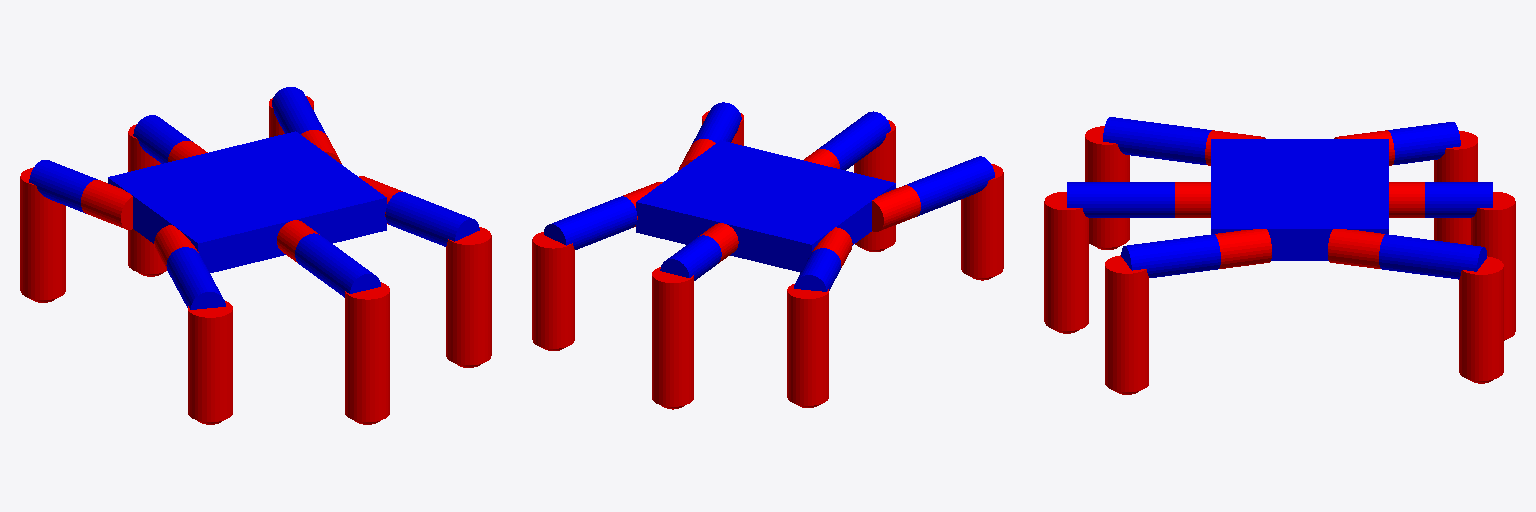
--- Render facts (derived) ---
Views: 3 orthographic renders of the robot side by side, from view 1: azimuth 30°, elevation 25°; view 2: azimuth 150°, elevation 25°; view 3: azimuth 270°, elevation 25°.
Robot: pexod — 19 links, 18 joints (18 revolute); root link base_link; default pose: every joint at zero.
Links seen in each view (by area): view 1: base_link, leg_3_3, leg_4_3, leg_5_3, leg_0_3, leg_3_2, leg_4_2, leg_5_2, leg_0_2, leg_1_3, leg_0_1, leg_2_2 (+3 smaller); view 2: base_link, leg_1_3, leg_0_3, leg_2_3, leg_5_3, leg_2_2, leg_5_2, leg_4_2, leg_4_3, leg_1_2, leg_5_1, leg_0_2 (+3 smaller); view 3: base_link, leg_4_3, leg_3_3, leg_2_3, leg_4_2, leg_5_2, leg_2_2, leg_1_3, leg_3_2, leg_5_3, leg_0_3, leg_1_2 (+5 smaller).
Link boxes in pixels (bbox=[...]): base_link: bbox=[108, 131, 386, 272]; leg_3_3: bbox=[446, 227, 491, 367]; leg_4_3: bbox=[345, 282, 389, 424]; leg_5_3: bbox=[188, 301, 232, 424]; leg_0_3: bbox=[20, 167, 65, 302]; leg_3_2: bbox=[385, 192, 479, 246]; leg_4_2: bbox=[295, 233, 380, 297]; leg_5_2: bbox=[166, 247, 225, 309]; leg_0_2: bbox=[29, 160, 97, 213]; leg_1_3: bbox=[128, 124, 166, 276]; leg_0_1: bbox=[81, 180, 132, 229]; leg_2_2: bbox=[272, 87, 327, 136]; base_link: bbox=[636, 140, 895, 272]; leg_1_3: bbox=[652, 267, 693, 409]; leg_0_3: bbox=[787, 284, 828, 407]; leg_2_3: bbox=[532, 232, 574, 350]; leg_5_3: bbox=[961, 164, 1003, 280]; leg_2_2: bbox=[544, 196, 636, 249]; leg_5_2: bbox=[904, 156, 994, 216]; leg_4_2: bbox=[817, 111, 890, 170]; leg_4_3: bbox=[854, 120, 895, 251]; leg_1_2: bbox=[660, 235, 721, 280]; leg_5_1: bbox=[872, 185, 920, 231]; leg_0_2: bbox=[794, 248, 840, 291]; base_link: bbox=[1211, 139, 1388, 260]; leg_4_3: bbox=[1044, 192, 1088, 333]; leg_3_3: bbox=[1105, 255, 1148, 394]; leg_2_3: bbox=[1459, 256, 1503, 383]; leg_4_2: bbox=[1067, 182, 1174, 217]; leg_5_2: bbox=[1103, 117, 1211, 164]; leg_2_2: bbox=[1379, 234, 1486, 279]; leg_1_3: bbox=[1471, 192, 1515, 340]; leg_3_2: bbox=[1121, 234, 1220, 277]; leg_5_3: bbox=[1085, 126, 1129, 249]; leg_0_3: bbox=[1434, 131, 1477, 244]; leg_1_2: bbox=[1425, 182, 1492, 217].
Size in the robot's own frame: 0.3946 by 0.5275 by 0.1943 metres.
Geometry: primitives only (box / cylinder / sphere), no mesh files.

robot.urdf — pexod:
<?xml version="1.0" ?>
<!-- =================================================================================== -->
<!-- |    This document was autogenerated by xacro from pexod.xacro                    | -->
<!-- |    EDITING THIS FILE BY HAND IS NOT RECOMMENDED                                 | -->
<!-- =================================================================================== -->
<robot name="pexod" xmlns:xacro="http://www.ros.org/wiki/xacro">
  <!-- <xacro:include filename="$(find pexod_description)/urdf/pexod_control.xacro" /> -->
  <!-- MATERIALS -->
  <material name="Blue">
    <color rgba="0 0 1 1"/>
  </material>
  <material name="Red">
    <color rgba="1 0 0 1"/>
  </material>
  <material name="Green">
    <color rgba="0 1 0 1"/>
  </material>
  <material name="Yellow">
    <color rgba="1 1 0 1"/>
  </material>
  <material name="LightGrey">
    <color rgba="0.6 0.6 0.6 1.0"/>
  </material>
  <!-- END OF MATERIALS -->
  <!-- XACRO MACROS FOR VISUALS AND COLLISIONS -->
  <!-- END OF XACRO MACROS -->
  <!-- TORSO -->
  <link name="base_link">
    <visual>
      <origin rpy="0 0 0" xyz="0 0 0"/>
      <geometry>
        <box size="0.24 0.2 0.04"/>
      </geometry>
      <material name="Blue"/>
    </visual>
    <collision>
      <origin rpy="0 0 0" xyz="0 0 0"/>
      <geometry>
        <box size="0.24 0.2 0.04"/>
      </geometry>
    </collision>
    <inertial>
      <!-- CENTER OF MASS -->
      <origin rpy="0 0 0" xyz="0 0 0"/>
      <mass value="1.031"/>
      <!-- box inertia: 1/12*m(y^2+z^2), ... -->
      <inertia ixx="0.00357413333333" ixy="0" ixz="0" iyy="0.00508626666667" iyz="0" izz="0.00838546666667"/>
    </inertial>
  </link>
  <!-- XACRO MACRO FOR LEGS LINKS/JOINTS -->
  <!-- END OF LEG LINKS/JOINTS -->
  <joint name="body_leg_2" type="revolute">
    <parent link="base_link"/>
    <child link="leg_2_1"/>
    <limit effort="30.0" lower="-1.57079632679" upper="1.57079632679" velocity="7.0"/>
    <origin rpy="0 0 -0.3" xyz="0.11 0.04 0"/>
    <!-- <xacro:if value="${index == 5 or index == 4 or index == 3}">
                <axis xyz="0 0 1"/>
            </xacro:if>
            <xacro:if value="${index == 2 or index == 1 or index == 0}"> -->
    <axis xyz="0 0 1"/>
    <!-- </xacro:if> -->
    <dynamics damping="0.0"/>
  </joint>
  <link name="leg_2_1">
    <visual>
      <origin rpy="1.57079632679 0 0" xyz="0.01 0.03 0"/>
      <geometry>
        <cylinder length="0.06" radius="0.02"/>
      </geometry>
      <material name="Red"/>
    </visual>
    <collision>
      <origin rpy="1.57079632679 0 0" xyz="0.01 0.03 0"/>
      <geometry>
        <box size="0.02 0.02 0.06"/>
      </geometry>
    </collision>
    <inertial>
      <!-- CENTER OF MASS -->
      <origin rpy="1.57079632679 0 0" xyz="0.01 0.03 0"/>
      <mass value="0.02"/>
      <!-- box inertia: 1/12*m(y^2+z^2), ... -->
      <inertia ixx="6.66666666667e-06" ixy="0" ixz="0" iyy="6.66666666667e-06" iyz="0" izz="1.33333333333e-06"/>
    </inertial>
  </link>
  <joint name="leg_2_1_2" type="revolute">
    <parent link="leg_2_1"/>
    <child link="leg_2_2"/>
    <limit effort="30.0" lower="-0.78539816339" upper="0.78539816339" velocity="7.0"/>
    <origin rpy="0 0 0" xyz="0 0.06 0"/>
    <axis xyz="1 0 0"/>
    <dynamics damping="0.0"/>
  </joint>
  <link name="leg_2_2">
    <visual>
      <origin rpy="1.57079632679 0 0" xyz="0.01 0.057348318075 0"/>
      <geometry>
        <cylinder length="0.11469663615" radius="0.02"/>
      </geometry>
      <material name="Blue"/>
    </visual>
    <collision>
      <origin rpy="1.57079632679 0 0" xyz="0.01 0.057348318075 0"/>
      <geometry>
        <box size="0.02 0.02 0.11469663615"/>
      </geometry>
    </collision>
    <inertial>
      <!-- CENTER OF MASS -->
      <origin rpy="1.57079632679 0 0" xyz="0.01 0.057348318075 0"/>
      <mass value="0.184"/>
      <!-- box inertia: 1/12*m(y^2+z^2), ... -->
      <inertia ixx="0.00020784821461" ixy="0" ixz="0" iyy="0.00020784821461" iyz="0" izz="1.22666666667e-05"/>
    </inertial>
  </link>
  <joint name="leg_2_2_3" type="revolute">
    <parent link="leg_2_2"/>
    <child link="leg_2_3"/>
    <limit effort="30.0" lower="-0.78539816339" upper="0.78539816339" velocity="7.0"/>
    <origin rpy="-1.57079632679 0 0" xyz="0 0.11469663615 0"/>
    <axis xyz="-1 0 0"/>
    <dynamics damping="0.0"/>
  </joint>
  <link name="leg_2_3">
    <visual>
      <origin rpy="1.57079632679 0 0" xyz="0.0125 0.065541130064 0"/>
      <geometry>
        <cylinder length="0.131082260128" radius="0.025"/>
      </geometry>
      <material name="Red"/>
    </visual>
    <visual>
      <origin rpy="1.57079632679 0 0" xyz="0.0125 0.118582260128 0"/>
      <geometry>
        <sphere radius="0.025"/>
      </geometry>
      <material name="Red"/>
    </visual>
    <collision>
      <origin rpy="1.57079632679 0 0" xyz="0.0125 0.065541130064 0"/>
      <geometry>
        <box size="0.025 0.025 0.131082260128"/>
      </geometry>
    </collision>
    <collision>
      <origin rpy="1.57079632679 0 0" xyz="0.0125 0.118582260128 0"/>
      <geometry>
        <sphere radius="0.025"/>
      </geometry>
      <material name="Red"/>
    </collision>
    <inertial>
      <!-- CENTER OF MASS -->
      <origin rpy="1.57079632679 0 0" xyz="0.0125 0.065541130064 0"/>
      <mass value="0.04"/>
      <!-- box inertia: 1/12*m(y^2+z^2), ... -->
      <inertia ixx="5.93585297342e-05" ixy="0" ixz="0" iyy="5.93585297342e-05" iyz="0" izz="4.16666666667e-06"/>
    </inertial>
  </link>
  <joint name="body_leg_3" type="revolute">
    <parent link="base_link"/>
    <child link="leg_3_1"/>
    <limit effort="30.0" lower="-1.57079632679" upper="1.57079632679" velocity="7.0"/>
    <origin rpy="0 0 0.3" xyz="0.11 -0.04 0"/>
    <!-- <xacro:if value="${index == 5 or index == 4 or index == 3}">
                <axis xyz="0 0 1"/>
            </xacro:if>
            <xacro:if value="${index == 2 or index == 1 or index == 0}"> -->
    <axis xyz="0 0 1"/>
    <!-- </xacro:if> -->
    <dynamics damping="0.0"/>
  </joint>
  <link name="leg_3_1">
    <visual>
      <origin rpy="1.57079632679 0 0" xyz="0.01 -0.03 0"/>
      <geometry>
        <cylinder length="0.06" radius="0.02"/>
      </geometry>
      <material name="Red"/>
    </visual>
    <collision>
      <origin rpy="1.57079632679 0 0" xyz="0.01 -0.03 0"/>
      <geometry>
        <box size="0.02 0.02 0.06"/>
      </geometry>
    </collision>
    <inertial>
      <!-- CENTER OF MASS -->
      <origin rpy="1.57079632679 0 0" xyz="0.01 -0.03 0"/>
      <mass value="0.02"/>
      <!-- box inertia: 1/12*m(y^2+z^2), ... -->
      <inertia ixx="6.66666666667e-06" ixy="0" ixz="0" iyy="6.66666666667e-06" iyz="0" izz="1.33333333333e-06"/>
    </inertial>
  </link>
  <joint name="leg_3_1_2" type="revolute">
    <parent link="leg_3_1"/>
    <child link="leg_3_2"/>
    <limit effort="30.0" lower="-0.78539816339" upper="0.78539816339" velocity="7.0"/>
    <origin rpy="0 0 0" xyz="0 -0.06 0"/>
    <axis xyz="-1 0 0"/>
    <dynamics damping="0.0"/>
  </joint>
  <link name="leg_3_2">
    <visual>
      <origin rpy="1.57079632679 0 0" xyz="0.01 -0.052264750076 0"/>
      <geometry>
        <cylinder length="0.104529500152" radius="0.02"/>
      </geometry>
      <material name="Blue"/>
    </visual>
    <collision>
      <origin rpy="1.57079632679 0 0" xyz="0.01 -0.052264750076 0"/>
      <geometry>
        <box size="0.02 0.02 0.104529500152"/>
      </geometry>
    </collision>
    <inertial>
      <!-- CENTER OF MASS -->
      <origin rpy="1.57079632679 0 0" xyz="0.01 -0.052264750076 0"/>
      <mass value="0.184"/>
      <!-- box inertia: 1/12*m(y^2+z^2), ... -->
      <inertia ixx="0.000173671718164" ixy="0" ixz="0" iyy="0.000173671718164" iyz="0" izz="1.22666666667e-05"/>
    </inertial>
  </link>
  <joint name="leg_3_2_3" type="revolute">
    <parent link="leg_3_2"/>
    <child link="leg_3_3"/>
    <limit effort="30.0" lower="-0.78539816339" upper="0.78539816339" velocity="7.0"/>
    <origin rpy="1.57079632679 0 0" xyz="0 -0.104529500152 0"/>
    <axis xyz="1 0 0"/>
    <dynamics damping="0.0"/>
  </joint>
  <link name="leg_3_3">
    <visual>
      <origin rpy="1.57079632679 0 0" xyz="0.0125 -0.0732962669775 0"/>
      <geometry>
        <cylinder length="0.146592533955" radius="0.025"/>
      </geometry>
      <material name="Red"/>
    </visual>
    <visual>
      <origin rpy="1.57079632679 0 0" xyz="0.0125 -0.134092533955 0"/>
      <geometry>
        <sphere radius="0.025"/>
      </geometry>
      <material name="Red"/>
    </visual>
    <collision>
      <origin rpy="1.57079632679 0 0" xyz="0.0125 -0.0732962669775 0"/>
      <geometry>
        <box size="0.025 0.025 0.146592533955"/>
      </geometry>
    </collision>
    <collision>
      <origin rpy="1.57079632679 0 0" xyz="0.0125 -0.134092533955 0"/>
      <geometry>
        <sphere radius="0.025"/>
      </geometry>
      <material name="Red"/>
    </collision>
    <inertial>
      <!-- CENTER OF MASS -->
      <origin rpy="1.57079632679 0 0" xyz="0.0125 -0.0732962669775 0"/>
      <mass value="0.04"/>
      <!-- box inertia: 1/12*m(y^2+z^2), ... -->
      <inertia ixx="7.37145700378e-05" ixy="0" ixz="0" iyy="7.37145700378e-05" iyz="0" izz="4.16666666667e-06"/>
    </inertial>
  </link>
  <joint name="body_leg_0" type="revolute">
    <parent link="base_link"/>
    <child link="leg_0_1"/>
    <limit effort="30.0" lower="-1.57079632679" upper="1.57079632679" velocity="7.0"/>
    <origin rpy="0 0 0.3" xyz="-0.13 0.04 0"/>
    <!-- <xacro:if value="${index == 5 or index == 4 or index == 3}">
                <axis xyz="0 0 1"/>
            </xacro:if>
            <xacro:if value="${index == 2 or index == 1 or index == 0}"> -->
    <axis xyz="0 0 1"/>
    <!-- </xacro:if> -->
    <dynamics damping="0.0"/>
  </joint>
  <link name="leg_0_1">
    <visual>
      <origin rpy="1.57079632679 0 0" xyz="0.01 0.03 0"/>
      <geometry>
        <cylinder length="0.06" radius="0.02"/>
      </geometry>
      <material name="Red"/>
    </visual>
    <collision>
      <origin rpy="1.57079632679 0 0" xyz="0.01 0.03 0"/>
      <geometry>
        <box size="0.02 0.02 0.06"/>
      </geometry>
    </collision>
    <inertial>
      <!-- CENTER OF MASS -->
      <origin rpy="1.57079632679 0 0" xyz="0.01 0.03 0"/>
      <mass value="0.02"/>
      <!-- box inertia: 1/12*m(y^2+z^2), ... -->
      <inertia ixx="6.66666666667e-06" ixy="0" ixz="0" iyy="6.66666666667e-06" iyz="0" izz="1.33333333333e-06"/>
    </inertial>
  </link>
  <joint name="leg_0_1_2" type="revolute">
    <parent link="leg_0_1"/>
    <child link="leg_0_2"/>
    <limit effort="30.0" lower="-0.78539816339" upper="0.78539816339" velocity="7.0"/>
    <origin rpy="0 0 0" xyz="0 0.06 0"/>
    <axis xyz="1 0 0"/>
    <dynamics damping="0.0"/>
  </joint>
  <link name="leg_0_2">
    <visual>
      <origin rpy="1.57079632679 0 0" xyz="0.01 0.0387549139997 0"/>
      <geometry>
        <cylinder length="0.0775098279994" radius="0.02"/>
      </geometry>
      <material name="Blue"/>
    </visual>
    <collision>
      <origin rpy="1.57079632679 0 0" xyz="0.01 0.0387549139997 0"/>
      <geometry>
        <box size="0.02 0.02 0.0775098279994"/>
      </geometry>
    </collision>
    <inertial>
      <!-- CENTER OF MASS -->
      <origin rpy="1.57079632679 0 0" xyz="0.01 0.0387549139997 0"/>
      <mass value="0.184"/>
      <!-- box inertia: 1/12*m(y^2+z^2), ... -->
      <inertia ixx="9.82525260263e-05" ixy="0" ixz="0" iyy="9.82525260263e-05" iyz="0" izz="1.22666666667e-05"/>
    </inertial>
  </link>
  <joint name="leg_0_2_3" type="revolute">
    <parent link="leg_0_2"/>
    <child link="leg_0_3"/>
    <limit effort="30.0" lower="-0.78539816339" upper="0.78539816339" velocity="7.0"/>
    <origin rpy="-1.57079632679 0 0" xyz="0 0.0775098279994 0"/>
    <axis xyz="-1 0 0"/>
    <dynamics damping="0.0"/>
  </joint>
  <link name="leg_0_3">
    <visual>
      <origin rpy="1.57079632679 0 0" xyz="0.0125 0.0697216368025 0"/>
      <geometry>
        <cylinder length="0.139443273605" radius="0.025"/>
      </geometry>
      <material name="Red"/>
    </visual>
    <visual>
      <origin rpy="1.57079632679 0 0" xyz="0.0125 0.126943273605 0"/>
      <geometry>
        <sphere radius="0.025"/>
      </geometry>
      <material name="Red"/>
    </visual>
    <collision>
      <origin rpy="1.57079632679 0 0" xyz="0.0125 0.0697216368025 0"/>
      <geometry>
        <box size="0.025 0.025 0.139443273605"/>
      </geometry>
    </collision>
    <collision>
      <origin rpy="1.57079632679 0 0" xyz="0.0125 0.126943273605 0"/>
      <geometry>
        <sphere radius="0.025"/>
      </geometry>
      <material name="Red"/>
    </collision>
    <inertial>
      <!-- CENTER OF MASS -->
      <origin rpy="1.57079632679 0 0" xyz="0.0125 0.0697216368025 0"/>
      <mass value="0.04"/>
      <!-- box inertia: 1/12*m(y^2+z^2), ... -->
      <inertia ixx="6.68980885123e-05" ixy="0" ixz="0" iyy="6.68980885123e-05" iyz="0" izz="4.16666666667e-06"/>
    </inertial>
  </link>
  <joint name="body_leg_5" type="revolute">
    <parent link="base_link"/>
    <child link="leg_5_1"/>
    <limit effort="30.0" lower="-1.57079632679" upper="1.57079632679" velocity="7.0"/>
    <origin rpy="0 0 -0.3" xyz="-0.13 -0.04 0"/>
    <!-- <xacro:if value="${index == 5 or index == 4 or index == 3}">
                <axis xyz="0 0 1"/>
            </xacro:if>
            <xacro:if value="${index == 2 or index == 1 or index == 0}"> -->
    <axis xyz="0 0 1"/>
    <!-- </xacro:if> -->
    <dynamics damping="0.0"/>
  </joint>
  <link name="leg_5_1">
    <visual>
      <origin rpy="1.57079632679 0 0" xyz="0.01 -0.03 0"/>
      <geometry>
        <cylinder length="0.06" radius="0.02"/>
      </geometry>
      <material name="Red"/>
    </visual>
    <collision>
      <origin rpy="1.57079632679 0 0" xyz="0.01 -0.03 0"/>
      <geometry>
        <box size="0.02 0.02 0.06"/>
      </geometry>
    </collision>
    <inertial>
      <!-- CENTER OF MASS -->
      <origin rpy="1.57079632679 0 0" xyz="0.01 -0.03 0"/>
      <mass value="0.02"/>
      <!-- box inertia: 1/12*m(y^2+z^2), ... -->
      <inertia ixx="6.66666666667e-06" ixy="0" ixz="0" iyy="6.66666666667e-06" iyz="0" izz="1.33333333333e-06"/>
    </inertial>
  </link>
  <joint name="leg_5_1_2" type="revolute">
    <parent link="leg_5_1"/>
    <child link="leg_5_2"/>
    <limit effort="30.0" lower="-0.78539816339" upper="0.78539816339" velocity="7.0"/>
    <origin rpy="0 0 0" xyz="0 -0.06 0"/>
    <axis xyz="-1 0 0"/>
    <dynamics damping="0.0"/>
  </joint>
  <link name="leg_5_2">
    <visual>
      <origin rpy="1.57079632679 0 0" xyz="0.01 -0.0599554691195 0"/>
      <geometry>
        <cylinder length="0.119910938239" radius="0.02"/>
      </geometry>
      <material name="Blue"/>
    </visual>
    <collision>
      <origin rpy="1.57079632679 0 0" xyz="0.01 -0.0599554691195 0"/>
      <geometry>
        <box size="0.02 0.02 0.119910938239"/>
      </geometry>
    </collision>
    <inertial>
      <!-- CENTER OF MASS -->
      <origin rpy="1.57079632679 0 0" xyz="0.01 -0.0599554691195 0"/>
      <mass value="0.184"/>
      <!-- box inertia: 1/12*m(y^2+z^2), ... -->
      <inertia ixx="0.000226605707677" ixy="0" ixz="0" iyy="0.000226605707677" iyz="0" izz="1.22666666667e-05"/>
    </inertial>
  </link>
  <joint name="leg_5_2_3" type="revolute">
    <parent link="leg_5_2"/>
    <child link="leg_5_3"/>
    <limit effort="30.0" lower="-0.78539816339" upper="0.78539816339" velocity="7.0"/>
    <origin rpy="1.57079632679 0 0" xyz="0 -0.119910938239 0"/>
    <axis xyz="1 0 0"/>
    <dynamics damping="0.0"/>
  </joint>
  <link name="leg_5_3">
    <visual>
      <origin rpy="1.57079632679 0 0" xyz="0.0125 -0.0635653171375 0"/>
      <geometry>
        <cylinder length="0.127130634275" radius="0.025"/>
      </geometry>
      <material name="Red"/>
    </visual>
    <visual>
      <origin rpy="1.57079632679 0 0" xyz="0.0125 -0.114630634275 0"/>
      <geometry>
        <sphere radius="0.025"/>
      </geometry>
      <material name="Red"/>
    </visual>
    <collision>
      <origin rpy="1.57079632679 0 0" xyz="0.0125 -0.0635653171375 0"/>
      <geometry>
        <box size="0.025 0.025 0.127130634275"/>
      </geometry>
    </collision>
    <collision>
      <origin rpy="1.57079632679 0 0" xyz="0.0125 -0.114630634275 0"/>
      <geometry>
        <sphere radius="0.025"/>
      </geometry>
      <material name="Red"/>
    </collision>
    <inertial>
      <!-- CENTER OF MASS -->
      <origin rpy="1.57079632679 0 0" xyz="0.0125 -0.0635653171375 0"/>
      <mass value="0.04"/>
      <!-- box inertia: 1/12*m(y^2+z^2), ... -->
      <inertia ixx="5.59573272372e-05" ixy="0" ixz="0" iyy="5.59573272372e-05" iyz="0" izz="4.16666666667e-06"/>
    </inertial>
  </link>
  <joint name="body_leg_1" type="revolute">
    <parent link="base_link"/>
    <child link="leg_1_1"/>
    <limit effort="30.0" lower="-1.57079632679" upper="1.57079632679" velocity="7.0"/>
    <origin rpy="0 0 0" xyz="-0.01 0.08 0"/>
    <!-- <xacro:if value="${index == 5 or index == 4 or index == 3}">
                <axis xyz="0 0 1"/>
            </xacro:if>
            <xacro:if value="${index == 2 or index == 1 or index == 0}"> -->
    <axis xyz="0 0 1"/>
    <!-- </xacro:if> -->
    <dynamics damping="0.0"/>
  </joint>
  <link name="leg_1_1">
    <visual>
      <origin rpy="1.57079632679 0 0" xyz="0.01 0.03 0"/>
      <geometry>
        <cylinder length="0.06" radius="0.02"/>
      </geometry>
      <material name="Red"/>
    </visual>
    <collision>
      <origin rpy="1.57079632679 0 0" xyz="0.01 0.03 0"/>
      <geometry>
        <box size="0.02 0.02 0.06"/>
      </geometry>
    </collision>
    <inertial>
      <!-- CENTER OF MASS -->
      <origin rpy="1.57079632679 0 0" xyz="0.01 0.03 0"/>
      <mass value="0.02"/>
      <!-- box inertia: 1/12*m(y^2+z^2), ... -->
      <inertia ixx="6.66666666667e-06" ixy="0" ixz="0" iyy="6.66666666667e-06" iyz="0" izz="1.33333333333e-06"/>
    </inertial>
  </link>
  <joint name="leg_1_1_2" type="revolute">
    <parent link="leg_1_1"/>
    <child link="leg_1_2"/>
    <limit effort="30.0" lower="-0.78539816339" upper="0.78539816339" velocity="7.0"/>
    <origin rpy="0 0 0" xyz="0 0.06 0"/>
    <axis xyz="1 0 0"/>
    <dynamics damping="0.0"/>
  </joint>
  <link name="leg_1_2">
    <visual>
      <origin rpy="1.57079632679 0 0" xyz="0.01 0.0382061343693 0"/>
      <geometry>
        <cylinder length="0.0764122687386" radius="0.02"/>
      </geometry>
      <material name="Blue"/>
    </visual>
    <collision>
      <origin rpy="1.57079632679 0 0" xyz="0.01 0.0382061343693 0"/>
      <geometry>
        <box size="0.02 0.02 0.0764122687386"/>
      </geometry>
    </collision>
    <inertial>
      <!-- CENTER OF MASS -->
      <origin rpy="1.57079632679 0 0" xyz="0.01 0.0382061343693 0"/>
      <mass value="0.184"/>
      <!-- box inertia: 1/12*m(y^2+z^2), ... -->
      <inertia ixx="9.56621338113e-05" ixy="0" ixz="0" iyy="9.56621338113e-05" iyz="0" izz="1.22666666667e-05"/>
    </inertial>
  </link>
  <joint name="leg_1_2_3" type="revolute">
    <parent link="leg_1_2"/>
    <child link="leg_1_3"/>
    <limit effort="30.0" lower="-0.78539816339" upper="0.78539816339" velocity="7.0"/>
    <origin rpy="-1.57079632679 0 0" xyz="0 0.0764122687386 0"/>
    <axis xyz="-1 0 0"/>
    <dynamics damping="0.0"/>
  </joint>
  <link name="leg_1_3">
    <visual>
      <origin rpy="1.57079632679 0 0" xyz="0.0125 0.0808818884635 0"/>
      <geometry>
        <cylinder length="0.161763776927" radius="0.025"/>
      </geometry>
      <material name="Red"/>
    </visual>
    <visual>
      <origin rpy="1.57079632679 0 0" xyz="0.0125 0.149263776927 0"/>
      <geometry>
        <sphere radius="0.025"/>
      </geometry>
      <material name="Red"/>
    </visual>
    <collision>
      <origin rpy="1.57079632679 0 0" xyz="0.0125 0.0808818884635 0"/>
      <geometry>
        <box size="0.025 0.025 0.161763776927"/>
      </geometry>
    </collision>
    <collision>
      <origin rpy="1.57079632679 0 0" xyz="0.0125 0.149263776927 0"/>
      <geometry>
        <sphere radius="0.025"/>
      </geometry>
      <material name="Red"/>
    </collision>
    <inertial>
      <!-- CENTER OF MASS -->
      <origin rpy="1.57079632679 0 0" xyz="0.0125 0.0808818884635 0"/>
      <mass value="0.04"/>
      <!-- box inertia: 1/12*m(y^2+z^2), ... -->
      <inertia ixx="8.9308398419e-05" ixy="0" ixz="0" iyy="8.9308398419e-05" iyz="0" izz="4.16666666667e-06"/>
    </inertial>
  </link>
  <joint name="body_leg_4" type="revolute">
    <parent link="base_link"/>
    <child link="leg_4_1"/>
    <limit effort="30.0" lower="-1.57079632679" upper="1.57079632679" velocity="7.0"/>
    <origin rpy="0 0 0" xyz="-0.01 -0.08 0"/>
    <!-- <xacro:if value="${index == 5 or index == 4 or index == 3}">
                <axis xyz="0 0 1"/>
            </xacro:if>
            <xacro:if value="${index == 2 or index == 1 or index == 0}"> -->
    <axis xyz="0 0 1"/>
    <!-- </xacro:if> -->
    <dynamics damping="0.0"/>
  </joint>
  <link name="leg_4_1">
    <visual>
      <origin rpy="1.57079632679 0 0" xyz="0.01 -0.03 0"/>
      <geometry>
        <cylinder length="0.06" radius="0.02"/>
      </geometry>
      <material name="Red"/>
    </visual>
    <collision>
      <origin rpy="1.57079632679 0 0" xyz="0.01 -0.03 0"/>
      <geometry>
        <box size="0.02 0.02 0.06"/>
      </geometry>
    </collision>
    <inertial>
      <!-- CENTER OF MASS -->
      <origin rpy="1.57079632679 0 0" xyz="0.01 -0.03 0"/>
      <mass value="0.02"/>
      <!-- box inertia: 1/12*m(y^2+z^2), ... -->
      <inertia ixx="6.66666666667e-06" ixy="0" ixz="0" iyy="6.66666666667e-06" iyz="0" izz="1.33333333333e-06"/>
    </inertial>
  </link>
  <joint name="leg_4_1_2" type="revolute">
    <parent link="leg_4_1"/>
    <child link="leg_4_2"/>
    <limit effort="30.0" lower="-0.78539816339" upper="0.78539816339" velocity="7.0"/>
    <origin rpy="0 0 0" xyz="0 -0.06 0"/>
    <axis xyz="-1 0 0"/>
    <dynamics damping="0.0"/>
  </joint>
  <link name="leg_4_2">
    <visual>
      <origin rpy="1.57079632679 0 0" xyz="0.01 -0.0605441906075 0"/>
      <geometry>
        <cylinder length="0.121088381215" radius="0.02"/>
      </geometry>
      <material name="Blue"/>
    </visual>
    <collision>
      <origin rpy="1.57079632679 0 0" xyz="0.01 -0.0605441906075 0"/>
      <geometry>
        <box size="0.02 0.02 0.121088381215"/>
      </geometry>
    </collision>
    <inertial>
      <!-- CENTER OF MASS -->
      <origin rpy="1.57079632679 0 0" xyz="0.01 -0.0605441906075 0"/>
      <mass value="0.184"/>
      <!-- box inertia: 1/12*m(y^2+z^2), ... -->
      <inertia ixx="0.000230956739667" ixy="0" ixz="0" iyy="0.000230956739667" iyz="0" izz="1.22666666667e-05"/>
    </inertial>
  </link>
  <joint name="leg_4_2_3" type="revolute">
    <parent link="leg_4_2"/>
    <child link="leg_4_3"/>
    <limit effort="30.0" lower="-0.78539816339" upper="0.78539816339" velocity="7.0"/>
    <origin rpy="1.57079632679 0 0" xyz="0 -0.121088381215 0"/>
    <axis xyz="1 0 0"/>
    <dynamics damping="0.0"/>
  </joint>
  <link name="leg_4_3">
    <visual>
      <origin rpy="1.57079632679 0 0" xyz="0.0125 -0.0746601107655 0"/>
      <geometry>
        <cylinder length="0.149320221531" radius="0.025"/>
      </geometry>
      <material name="Red"/>
    </visual>
    <visual>
      <origin rpy="1.57079632679 0 0" xyz="0.0125 -0.136820221531 0"/>
      <geometry>
        <sphere radius="0.025"/>
      </geometry>
      <material name="Red"/>
    </visual>
    <collision>
      <origin rpy="1.57079632679 0 0" xyz="0.0125 -0.0746601107655 0"/>
      <geometry>
        <box size="0.025 0.025 0.149320221531"/>
      </geometry>
    </collision>
    <collision>
      <origin rpy="1.57079632679 0 0" xyz="0.0125 -0.136820221531 0"/>
      <geometry>
        <sphere radius="0.025"/>
      </geometry>
      <material name="Red"/>
    </collision>
    <inertial>
      <!-- CENTER OF MASS -->
      <origin rpy="1.57079632679 0 0" xyz="0.0125 -0.0746601107655 0"/>
      <mass value="0.04"/>
      <!-- box inertia: 1/12*m(y^2+z^2), ... -->
      <inertia ixx="7.64050951936e-05" ixy="0" ixz="0" iyy="7.64050951936e-05" iyz="0" izz="4.16666666667e-06"/>
    </inertial>
  </link>
  <!-- END OF LEG LINKS/JOINTS -->
</robot>
